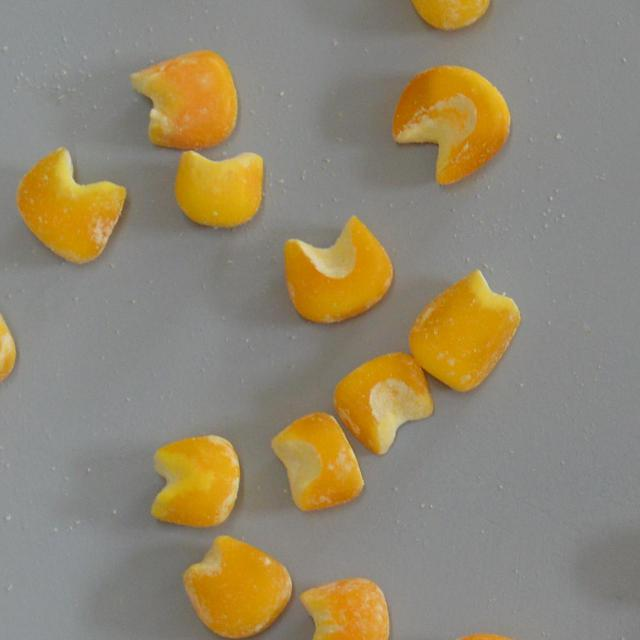no_canjicado: (172, 148, 264, 228)
pelicula: (390, 64, 511, 184), (14, 146, 128, 265), (410, 268, 520, 390), (282, 215, 394, 324), (182, 535, 292, 638), (127, 50, 238, 149), (332, 349, 434, 453), (271, 412, 365, 512), (147, 432, 240, 527), (296, 575, 389, 640), (393, 0, 492, 29), (0, 294, 18, 404)
